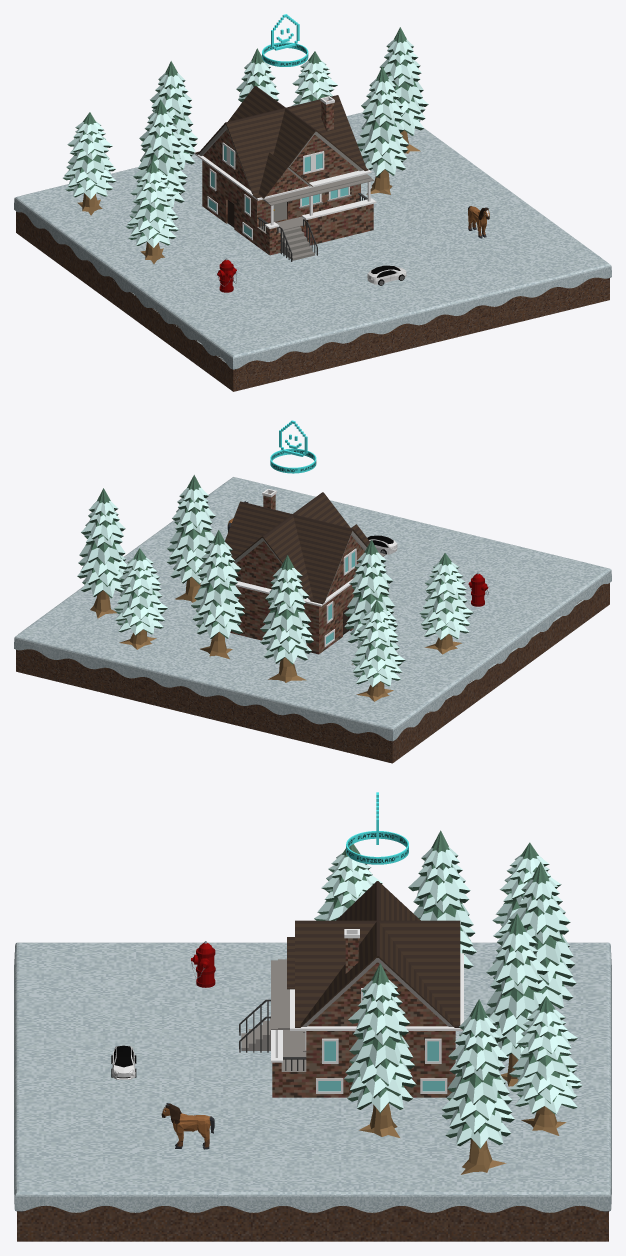
3 views of the same model, one above another, from view 1: azimuth 30°, elevation 25°; view 2: azimuth 150°, elevation 25°; view 3: azimuth 270°, elevation 25° (orthographic). The views are drawn at different scales.
Visible parts, largest first — view 1: Cube.003, Cube.117, TYPE_PREMIUM, VEHICLES_TESLA, ANIMAL_CABALLO; view 2: Cube.003, Cube.117, TYPE_PREMIUM, OBJRANDOM_FIRE_HYDRANT; view 3: Cube.003, Cube.117, TYPE_PREMIUM, ANIMAL_CABALLO, OBJRANDOM_FIRE_HYDRANT, VEHICLES_TESLA.
Boxes of the visible parts, x1,y1,x2,y2 form: Cube.003: (14,27,611,391); Cube.117: (194,85,376,261); TYPE_PREMIUM: (262,14,308,66); VEHICLES_TESLA: (367,265,406,285); ANIMAL_CABALLO: (468,206,489,238); Cube.003: (14,475,611,763); Cube.117: (225,489,388,654); TYPE_PREMIUM: (270,420,316,473); OBJRANDOM_FIRE_HYDRANT: (468,572,488,606); Cube.003: (14,830,611,1241); Cube.117: (239,881,463,1097); TYPE_PREMIUM: (346,792,408,864); ANIMAL_CABALLO: (161,1103,214,1149); OBJRANDOM_FIRE_HYDRANT: (191,941,215,987); VEHICLES_TESLA: (111,1045,136,1079).
Size of the model in its own units: 4040 by 2483 by 4040.
34 materials, 5 textured.
